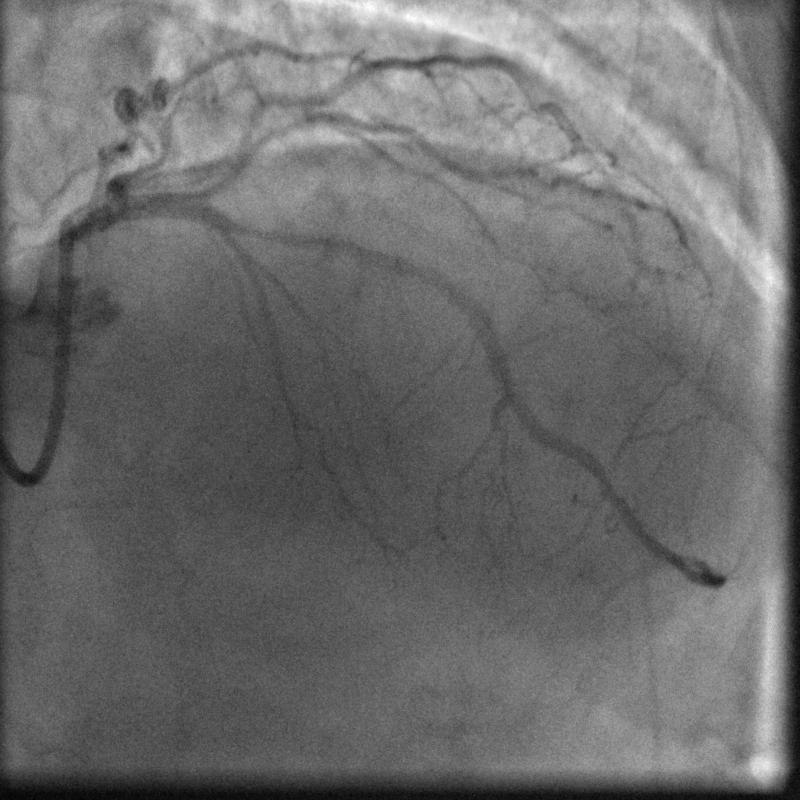Stenosis: (243, 212, 313, 255)
